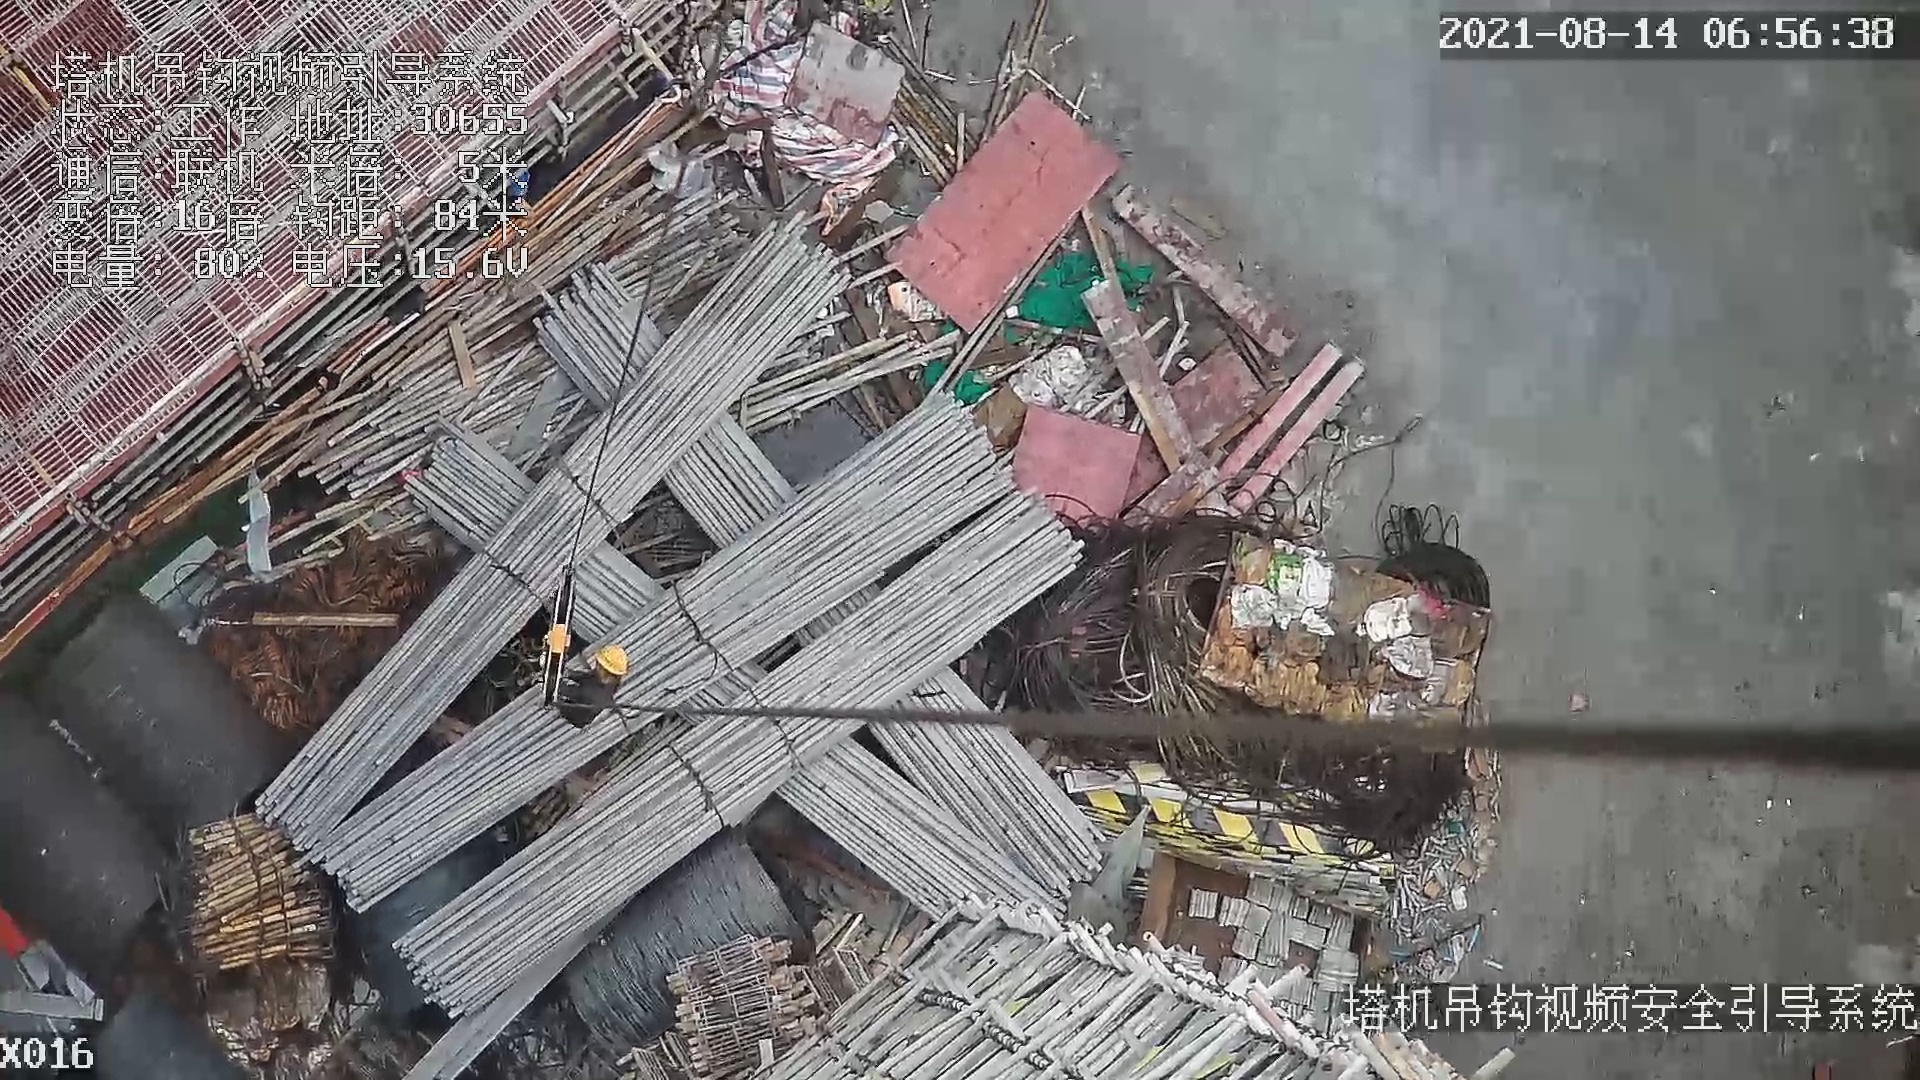helmet: (594, 646, 628, 675)
hook: (540, 569, 581, 709)
person: (546, 651, 635, 728)
rebar: (301, 381, 1021, 914), (252, 216, 848, 850), (390, 496, 1085, 1019), (866, 669, 1106, 895), (775, 734, 1067, 916)
wood: (190, 814, 339, 970)
